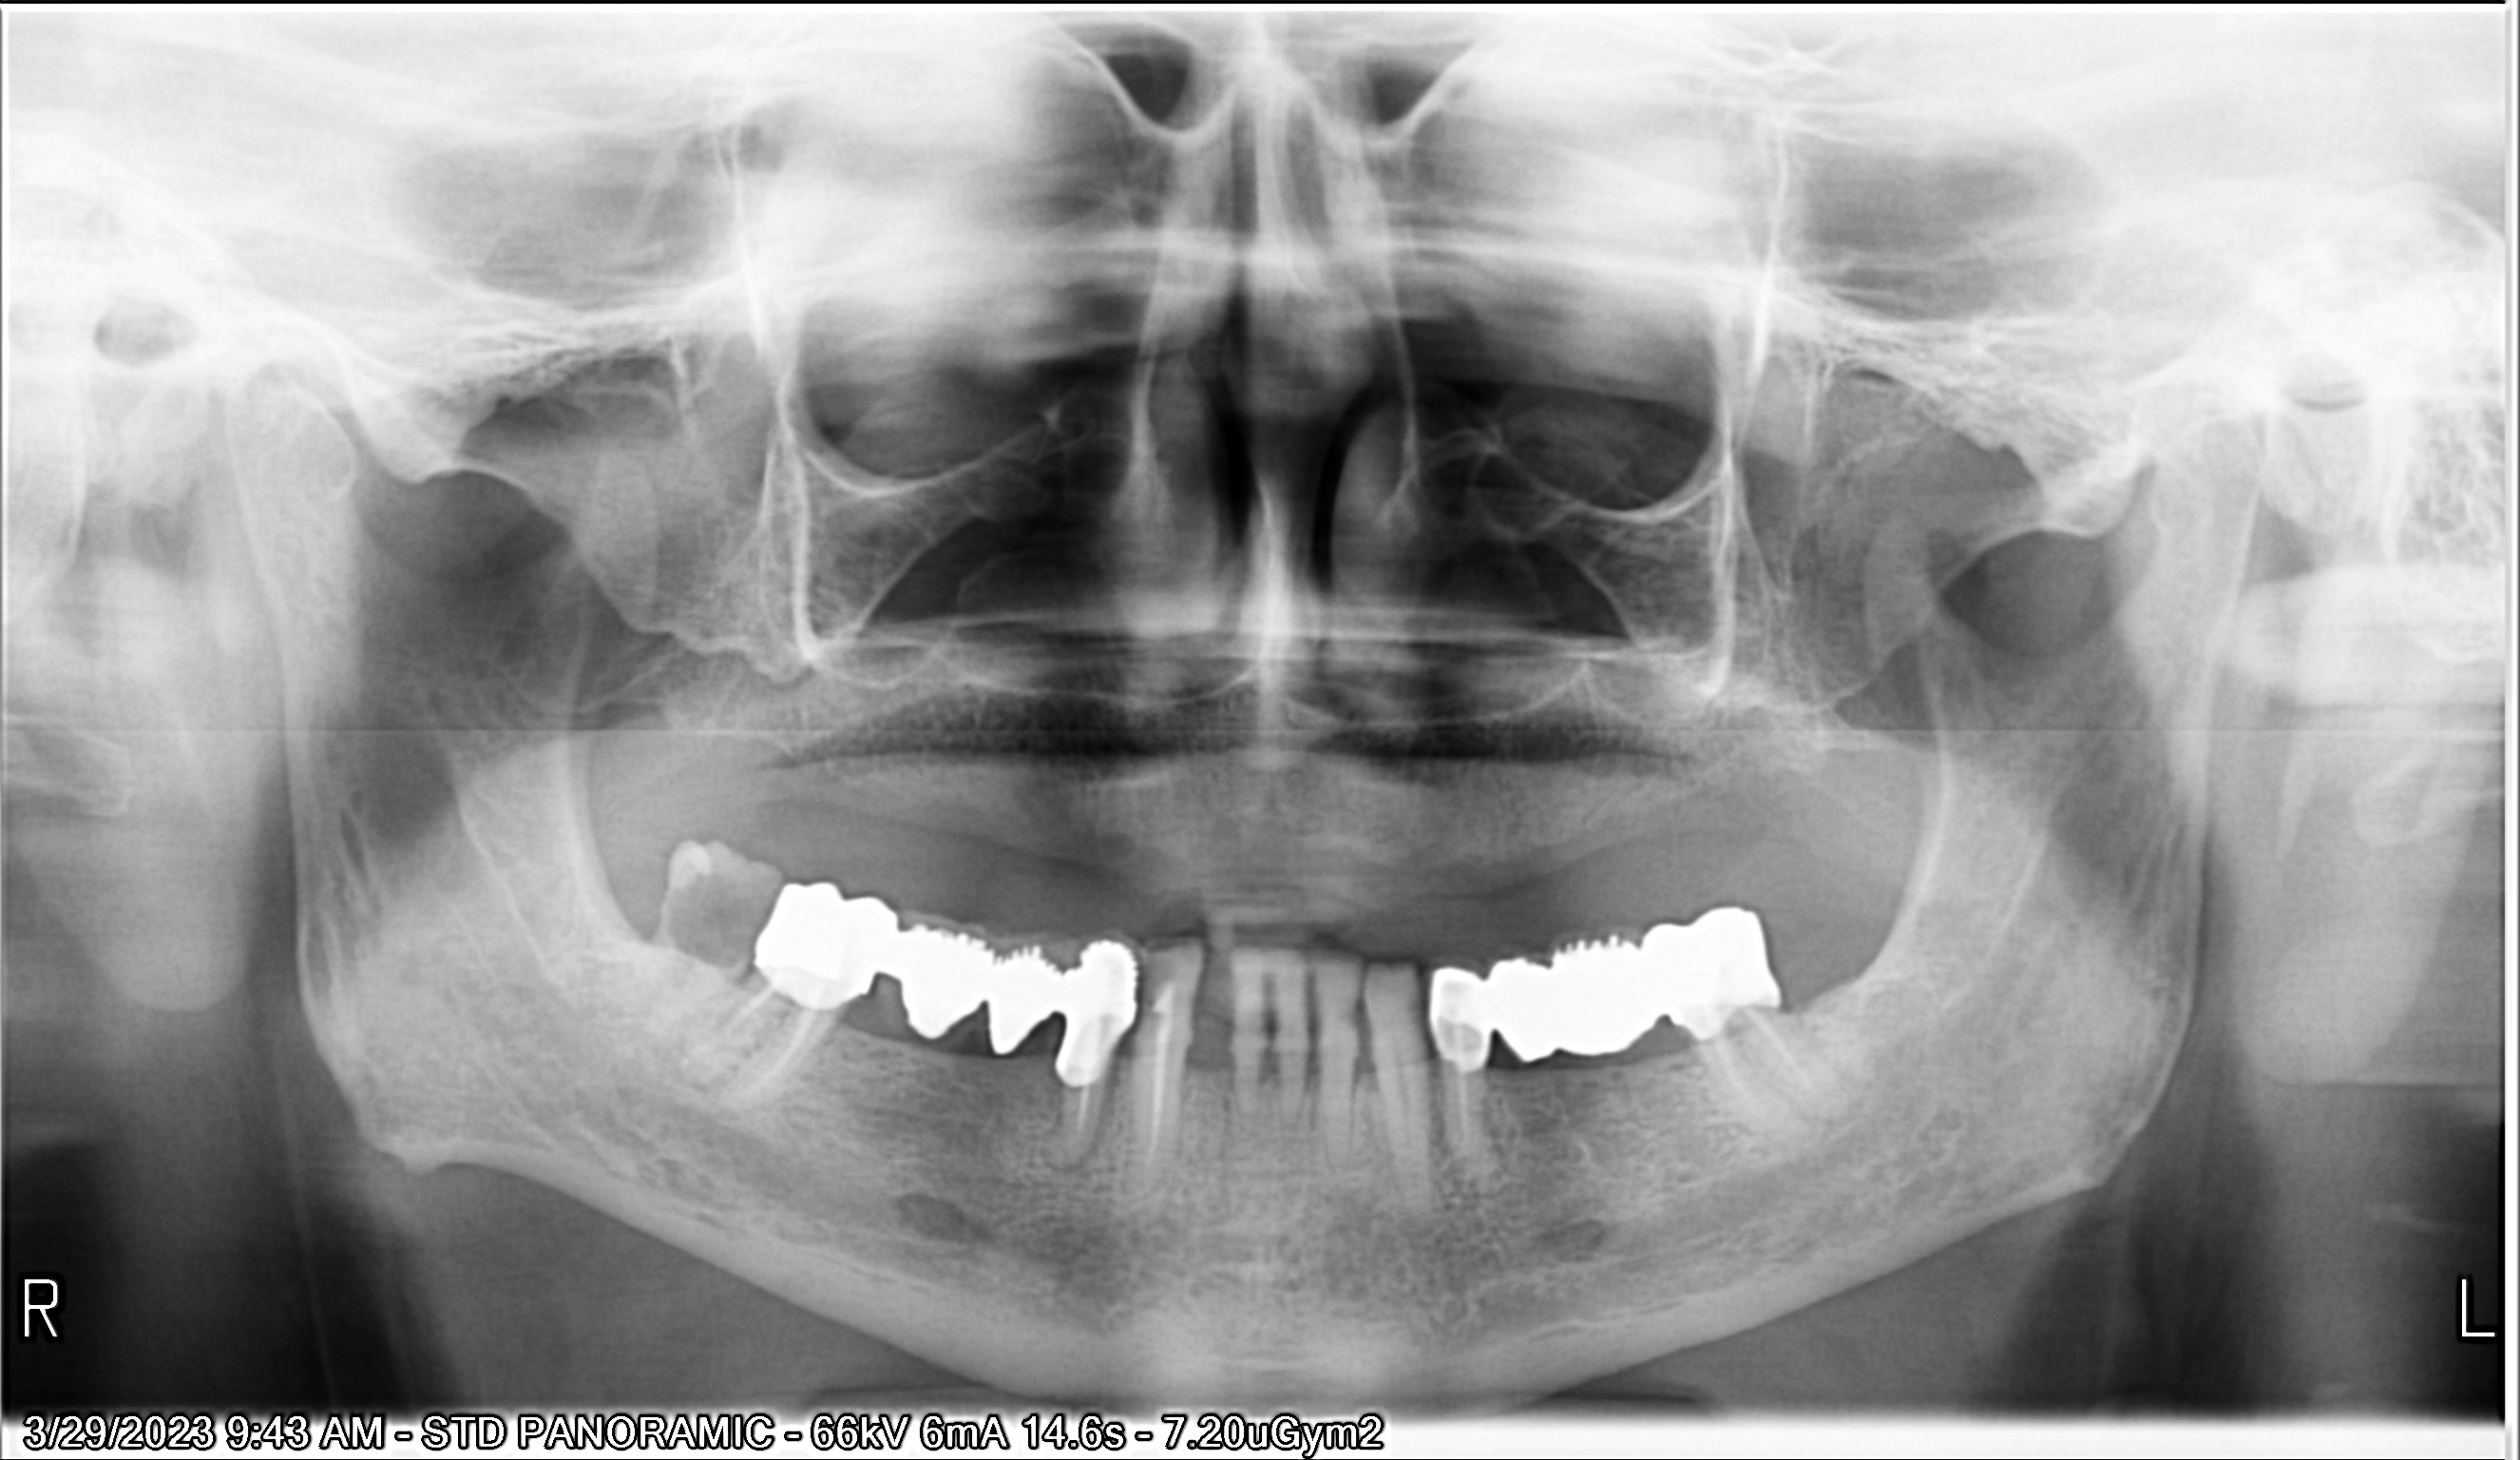CAR: (634, 831, 773, 989), (1341, 992, 1386, 1053)
END: (676, 911, 809, 1095), (1103, 998, 1224, 1194), (1659, 994, 1855, 1111), (1415, 1027, 1513, 1178), (1047, 1045, 1099, 1165)
PRR: (676, 848, 1190, 1019), (1388, 888, 1799, 1072)
